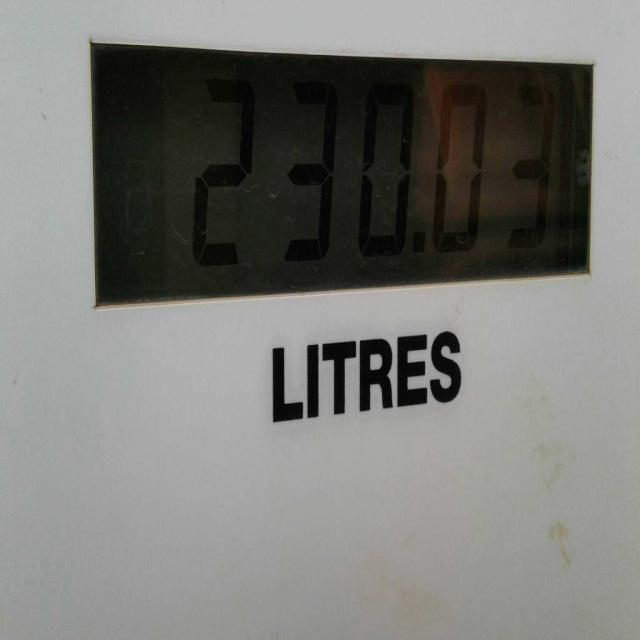.: (412, 227, 428, 263)
0: (426, 73, 489, 263), (357, 77, 418, 253)
2: (190, 66, 268, 276)
3: (274, 75, 350, 278), (509, 74, 557, 254)
